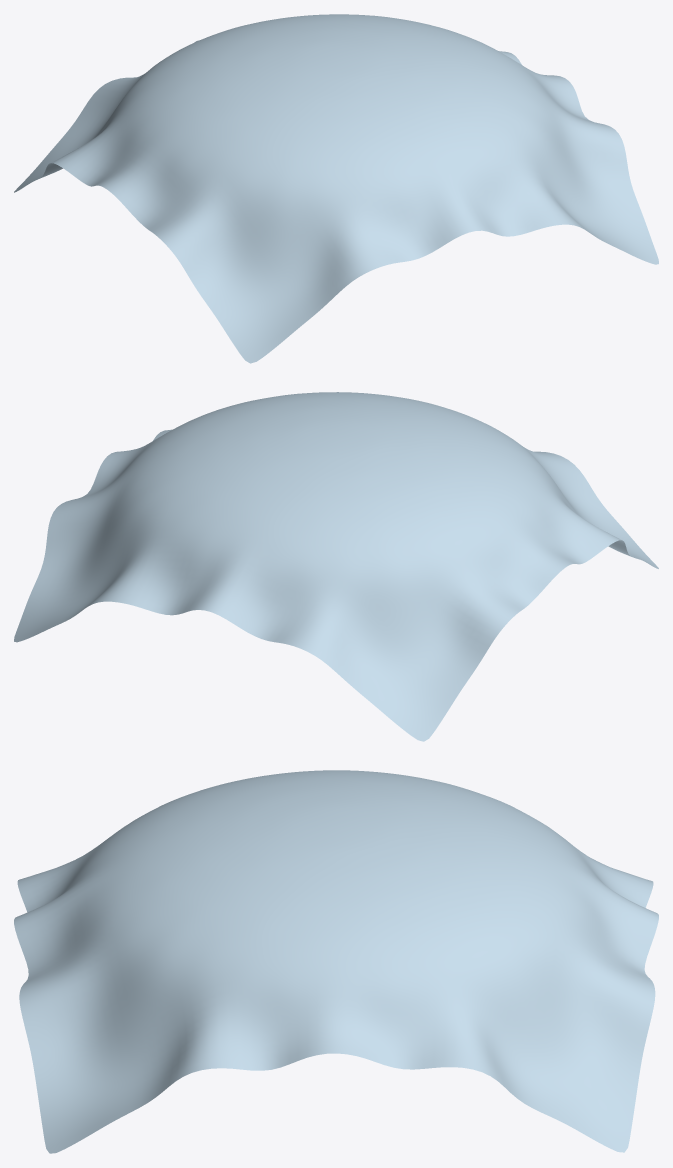
Rendered from cloth.fbx.
The picture shows the model from 3 angles, top to bottom: view 1: azimuth 30°, elevation 25°; view 2: azimuth 150°, elevation 25°; view 3: azimuth 270°, elevation 25°; orthographic projection. The views are drawn at different scales.
Visible parts, largest first — view 1: 平面; view 2: 平面; view 3: 平面.
Boxes of the visible parts, x1,y1,x2,y2 form: 平面: [14, 14, 658, 363]; 平面: [14, 392, 658, 741]; 平面: [14, 770, 658, 1153].
Size of the model in its own units: 376 by 133 by 376.
